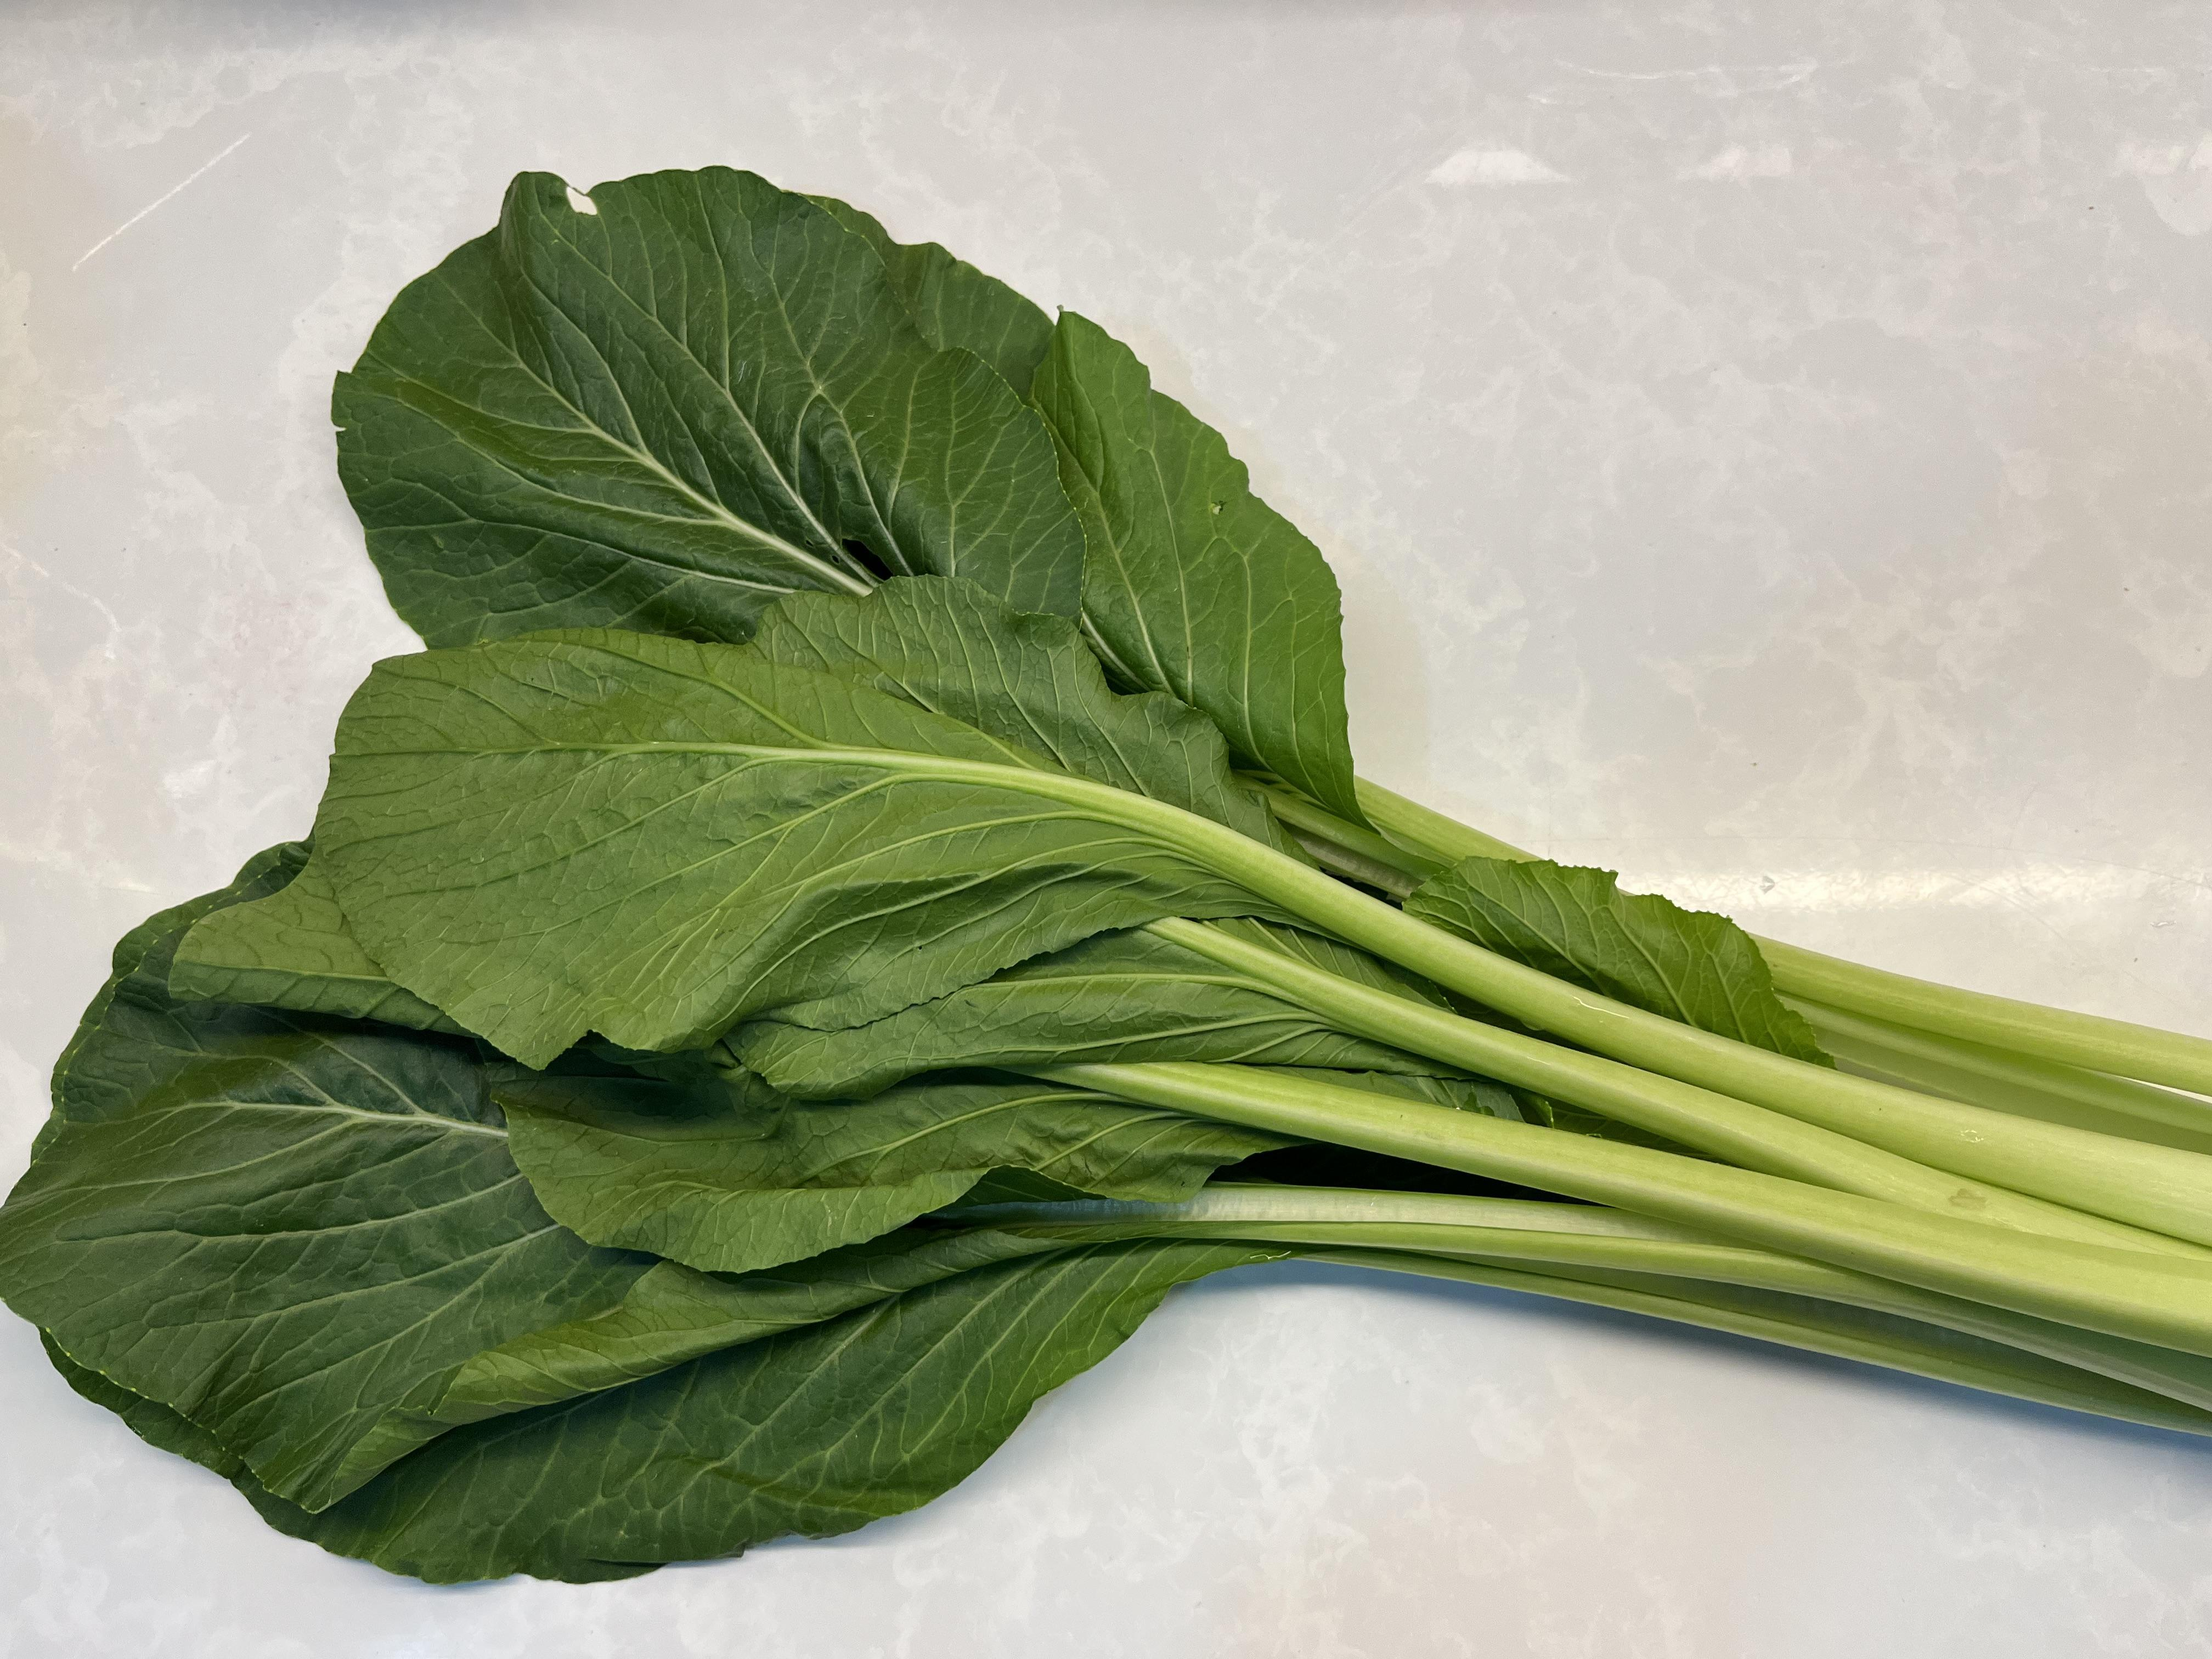Healthy-Pechay: (132, 171, 2080, 1553)
